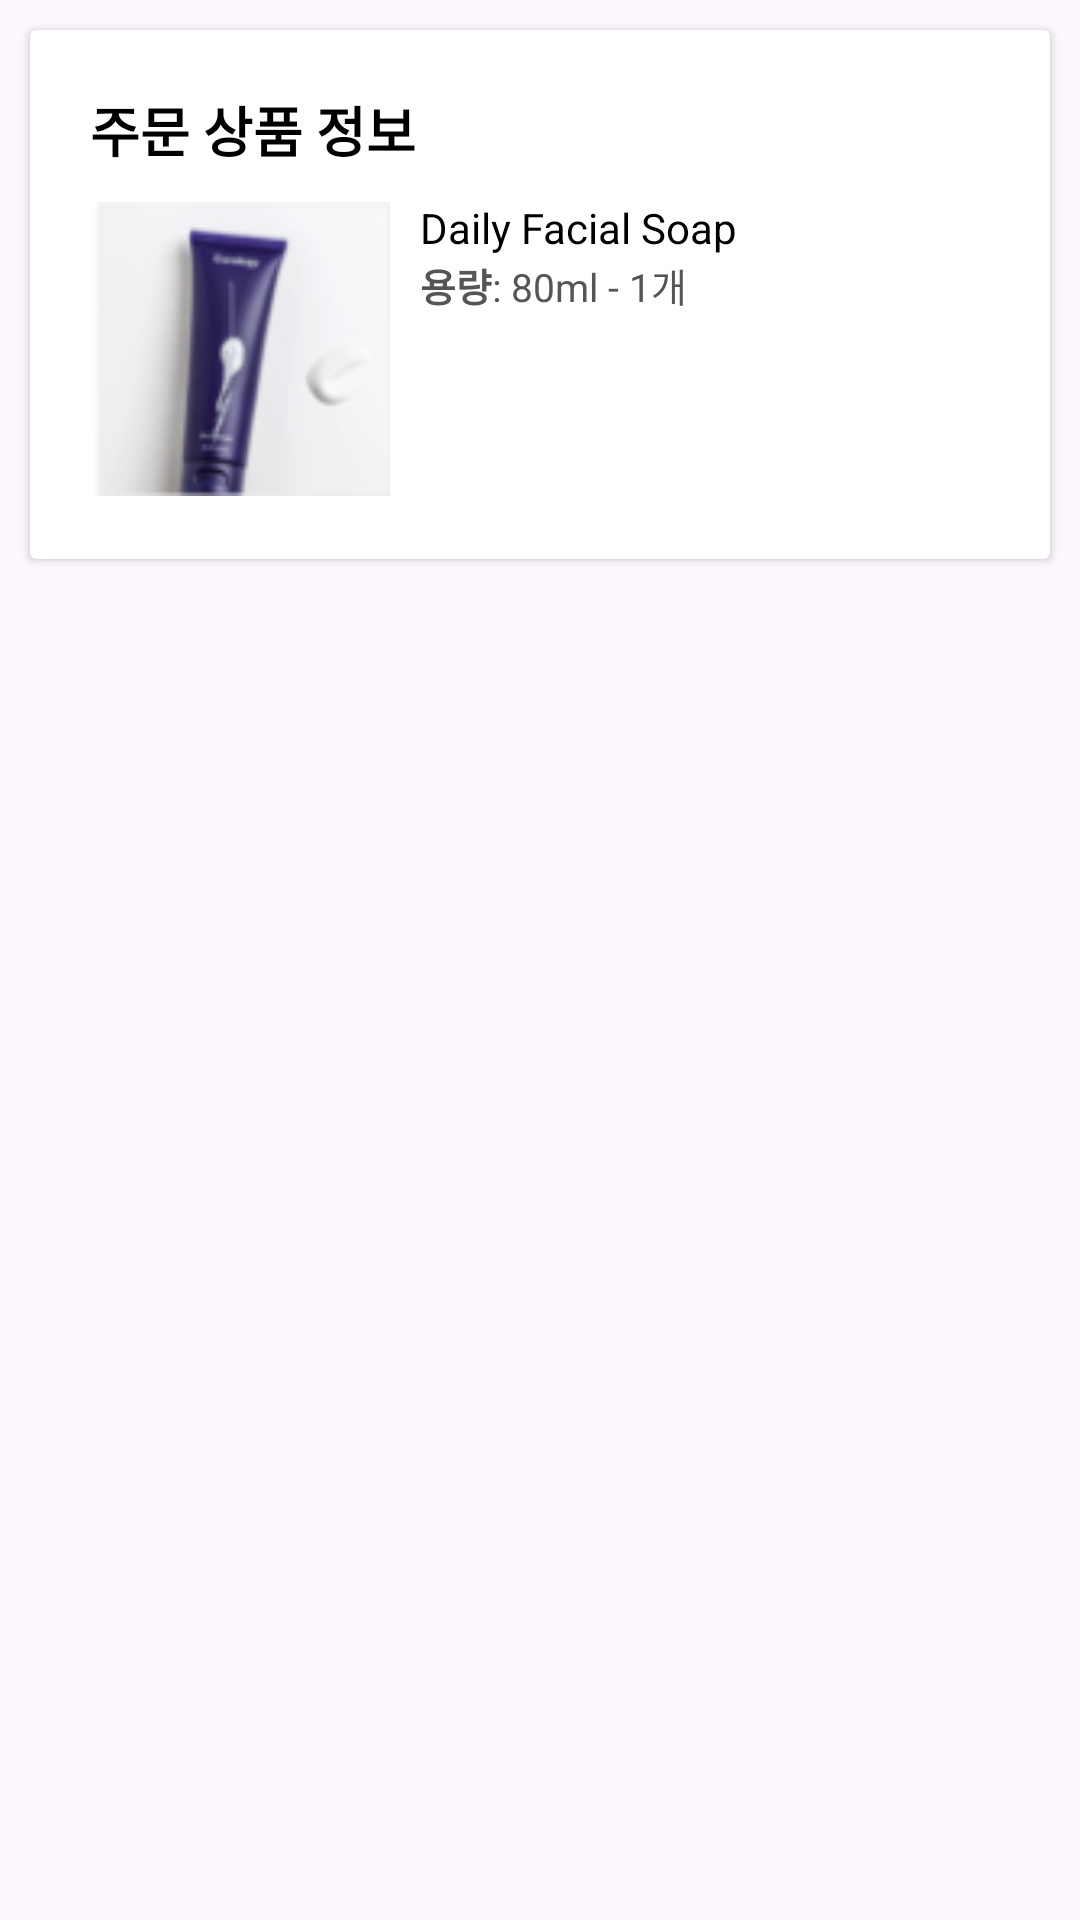

Point at icon controls on the screen. Image size 1080 × 1920, points as point (x, y).
product: point (231, 361)
